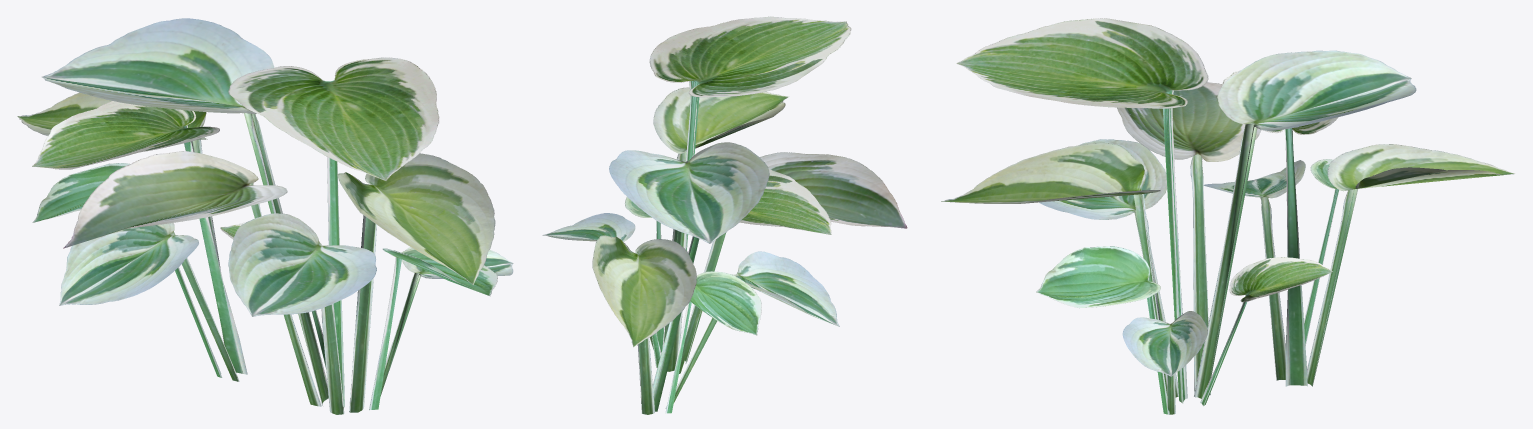
File: plant_small_wg_00_o-corner04.fbx
3 views of the same model, side by side, from view 1: azimuth 30°, elevation 25°; view 2: azimuth 150°, elevation 25°; view 3: azimuth 270°, elevation 25° (orthographic). The views are drawn at different scales.
Parts seen in each view (by area): view 1: plant_small_wg_00_o-corner04; view 2: plant_small_wg_00_o-corner04; view 3: plant_small_wg_00_o-corner04.
Boxes of the visible parts, left/top/right/bottom form: plant_small_wg_00_o-corner04: left=17, top=18, right=513, bottom=414; plant_small_wg_00_o-corner04: left=542, top=16, right=907, bottom=414; plant_small_wg_00_o-corner04: left=941, top=18, right=1514, bottom=414.
Size of the model in its own units: 44.58 by 34.83 by 56.14.
Materials: 1 (1 with a texture image).
